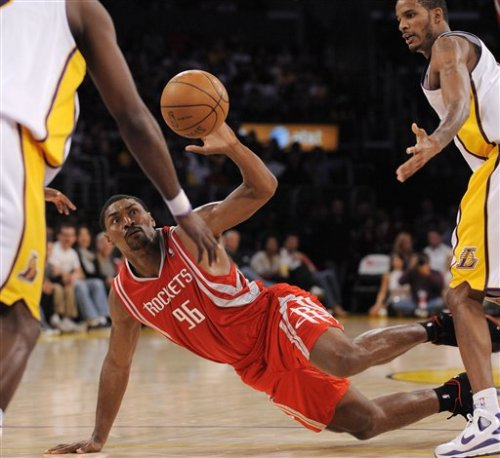10+: (1, 1, 500, 458)
down: (64, 106, 497, 455)
